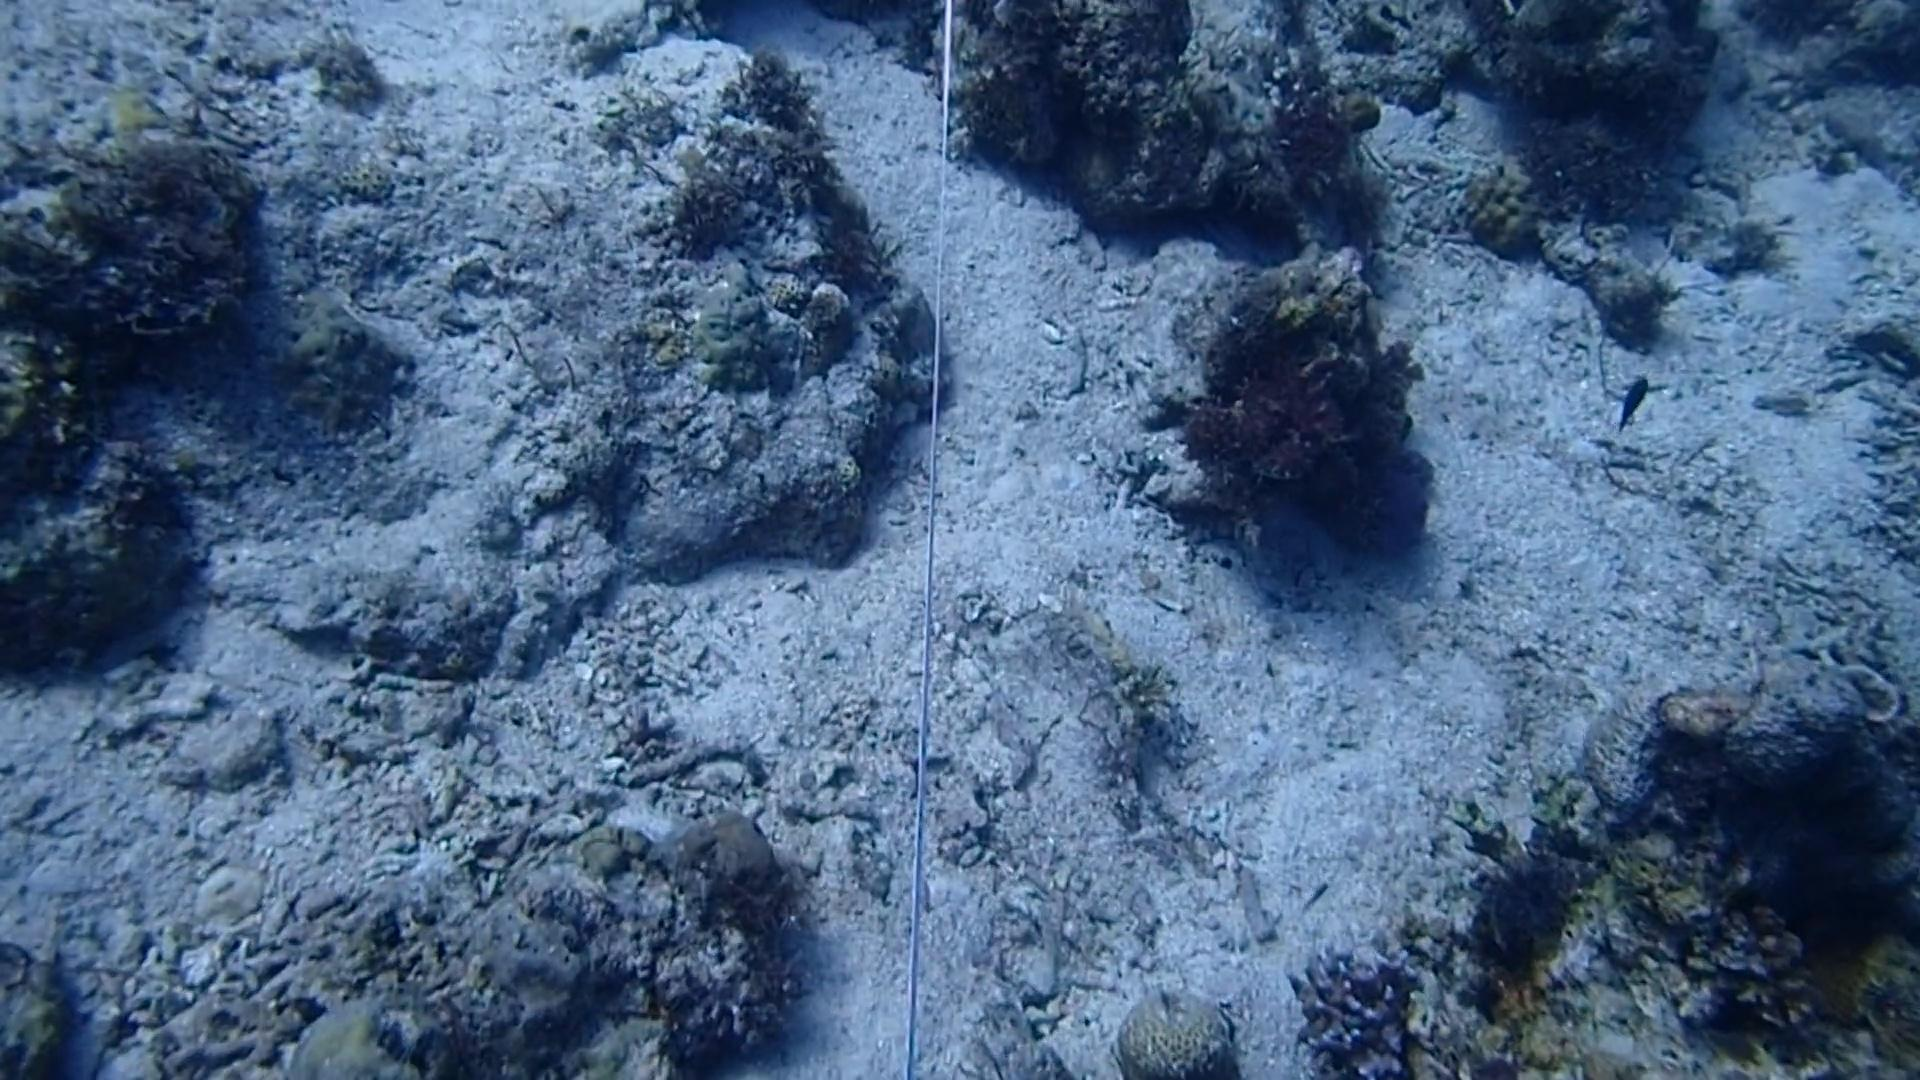Dark Fish: (1605, 368, 1663, 438)
